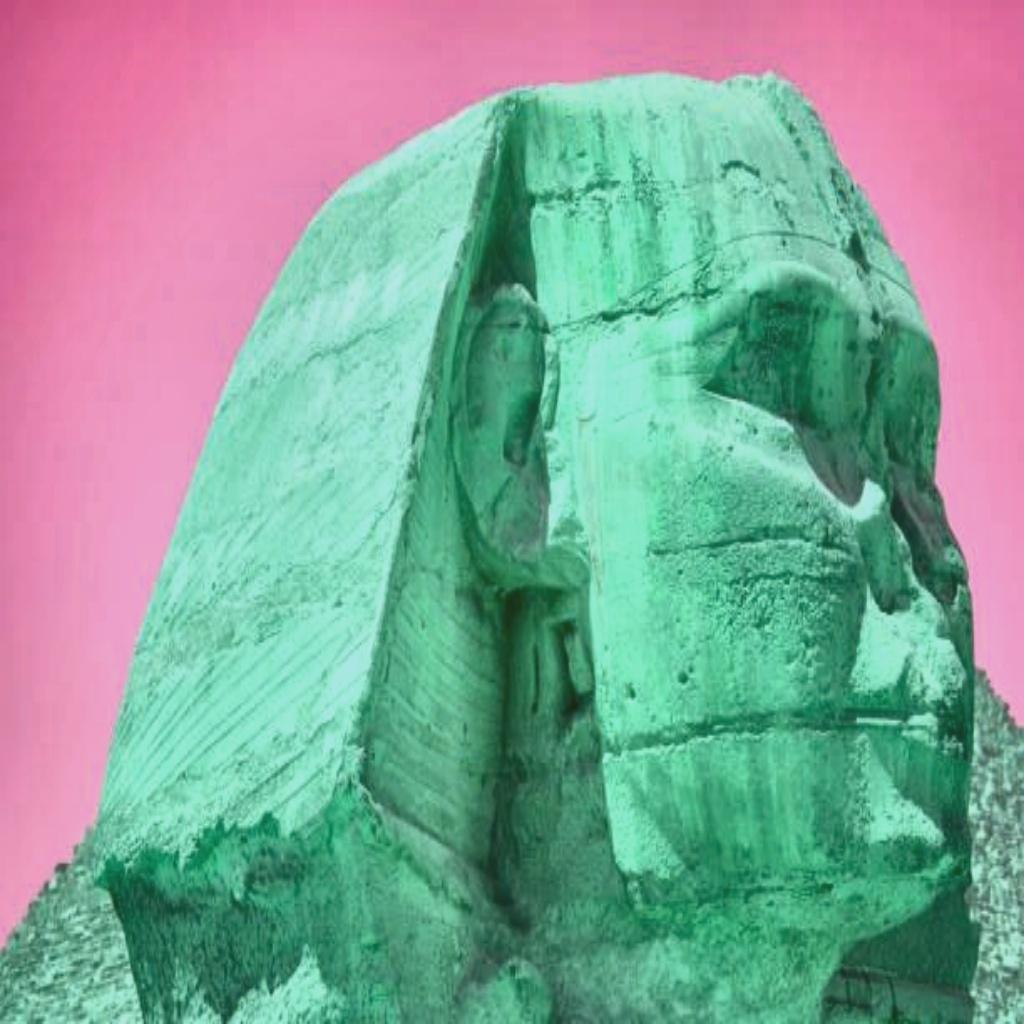Sphinx: (2, 66, 980, 1022)
